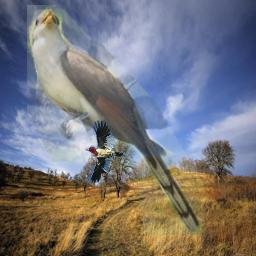Cuckoo: (27, 5, 205, 235)
Woodpecker: (85, 120, 126, 183)
